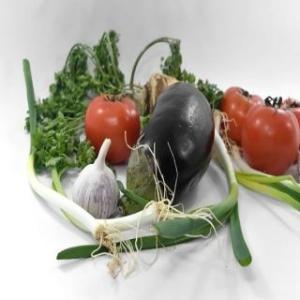eggplant: (119, 80, 213, 216)
garlic: (76, 140, 114, 220)
tomato: (240, 99, 298, 178), (84, 90, 138, 158), (222, 86, 260, 148)
